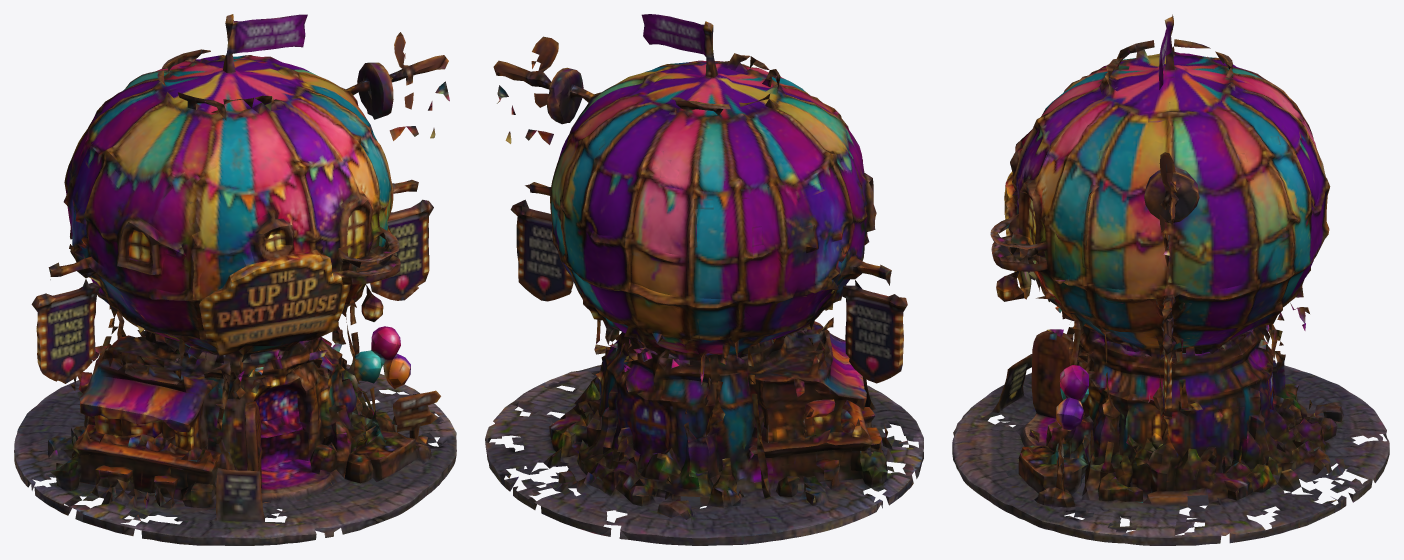
The model's file is up_up_house.glb.
The picture shows the model from 3 angles, left to right: view 1: azimuth 30°, elevation 25°; view 2: azimuth 150°, elevation 25°; view 3: azimuth 270°, elevation 25°; orthographic projection.
Parts seen in each view (by area): view 1: output; view 2: output; view 3: output.
Part boxes in pixels (x1=…): output: x1=14, y1=14, x2=456, y2=545; output: x1=485, y1=14, x2=923, y2=545; output: x1=952, y1=14, x2=1389, y2=545.
Bounding box in the file's own units: 1.99 × 2.01 × 1.82.
1 material, 1 textured.
